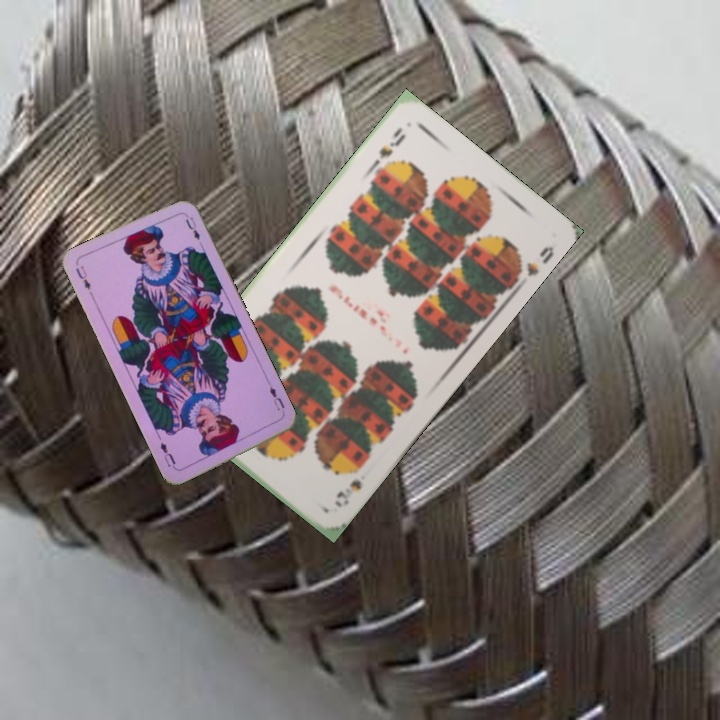EU: (264, 380, 288, 418), (72, 262, 93, 292)
S9: (330, 459, 368, 510), (375, 123, 408, 161)
